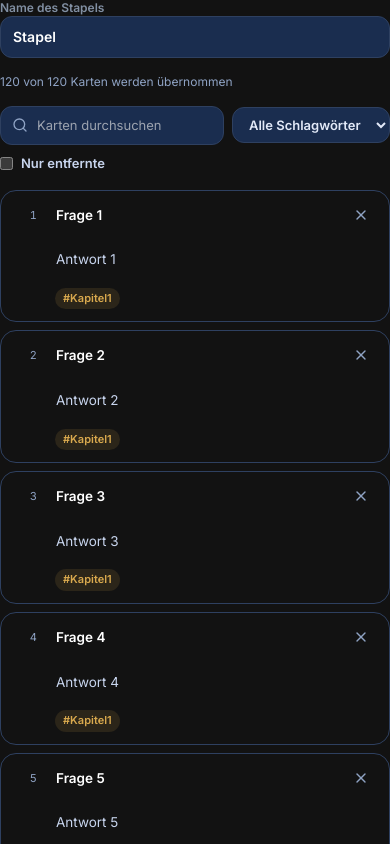
Test: GeneratedCardsEditor bei vielen Karten › Suche filtert, Nummern bleiben die Position im Stapel
Type "Frage 111" into the search field labelled "Karten durchsuchen".
click(112, 125); type("Frage 111")  # box [0,106,224,145]
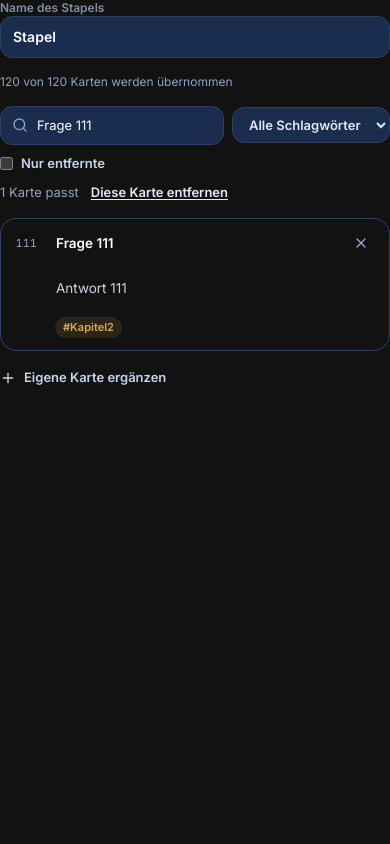
Result: the text box named "Vorderseite Karte 111" is shown at [45,227,337,260]
